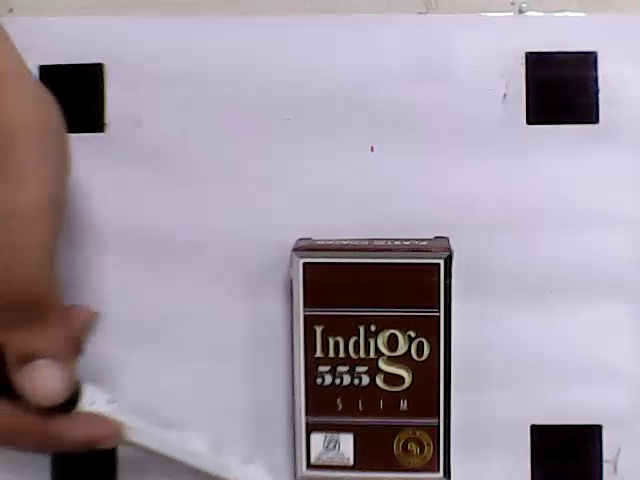BEX: (303, 261, 442, 474)
